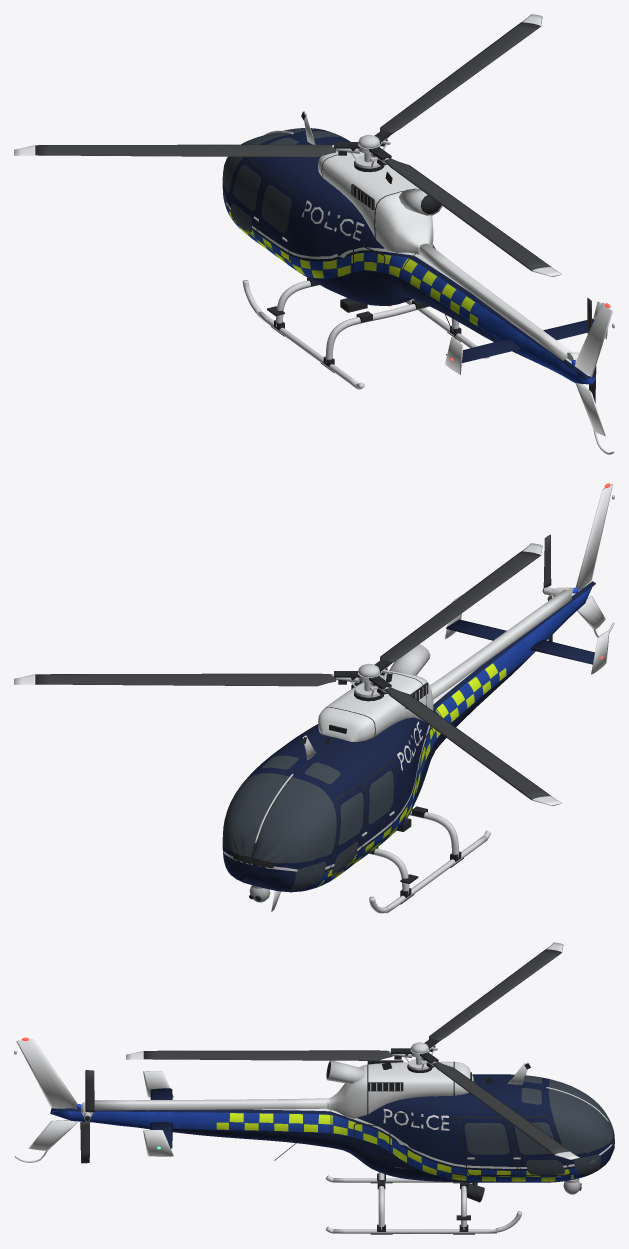
Rendered from police.glb.
3 views of the same model, one above another, from view 1: azimuth 30°, elevation 25°; view 2: azimuth 150°, elevation 25°; view 3: azimuth 270°, elevation 25° (orthographic). The views are drawn at different scales.
Visible parts, largest first — view 1: heli_body, heli_rotor; view 2: heli_body, heli_rotor; view 3: heli_body, heli_rotor, heli_tail_rotor.
Boxes of the visible parts, left/top/right/bottom form: heli_body: left=222, top=111, right=614, bottom=454; heli_rotor: left=14, top=14, right=562, bottom=276; heli_body: left=222, top=483, right=614, bottom=913; heli_rotor: left=14, top=543, right=562, bottom=805; heli_body: left=14, top=1037, right=614, bottom=1234; heli_rotor: left=126, top=942, right=579, bottom=1159; heli_tail_rotor: left=80, top=1070, right=94, bottom=1163.
Bounding box in the file's own units: 9.37 × 3.42 × 10.94.
